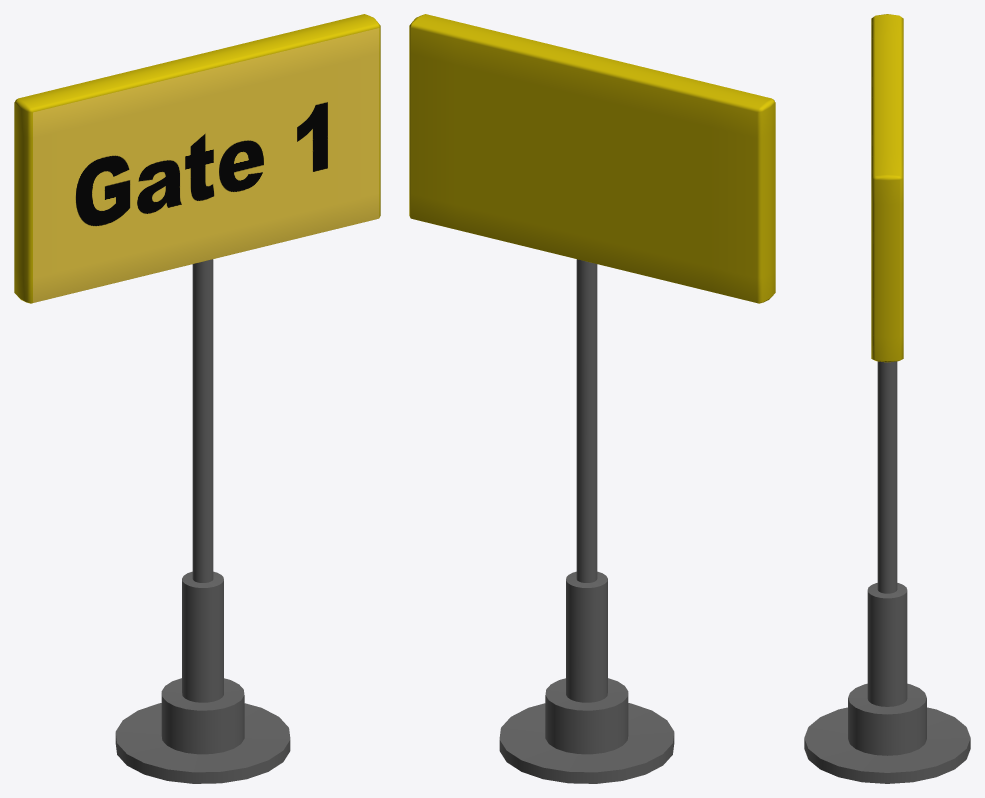
The model's file is Gate_1.fbx.
3 views of the same model, side by side, from view 1: azimuth 30°, elevation 25°; view 2: azimuth 150°, elevation 25°; view 3: azimuth 270°, elevation 25° (orthographic). The views are drawn at different scales.
Parts seen in each view (by area): view 1: pCube1, pCylinder1; view 2: pCube1, pCylinder1; view 3: pCylinder1, pCube1.
Boxes of the visible parts, left/top/right/bottom form: pCube1: left=14, top=14, right=380, bottom=303; pCylinder1: left=115, top=259, right=290, bottom=783; pCube1: left=409, top=14, right=775, bottom=303; pCylinder1: left=499, top=259, right=674, bottom=783; pCylinder1: left=804, top=361, right=970, bottom=783; pCube1: left=871, top=14, right=903, bottom=362.
Size of the model in its own units: 4.05 by 7.5 by 1.73.
